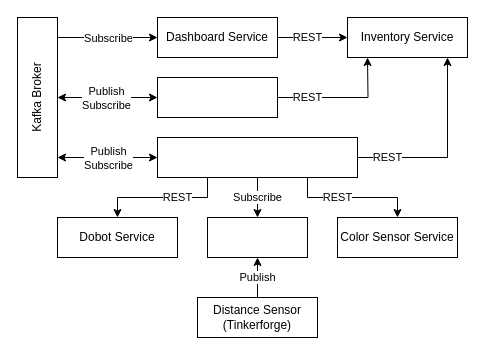
This 485x355 diagram has some shape labels left out. The shapes that lost their labels are listed below. From the top down, each one's centre as x and y in pixels, then its label:
At pixel 217 97: "Order Service".
At pixel 257 157: "Factory Service".
At pixel 257 237: "MQTT Broker".
